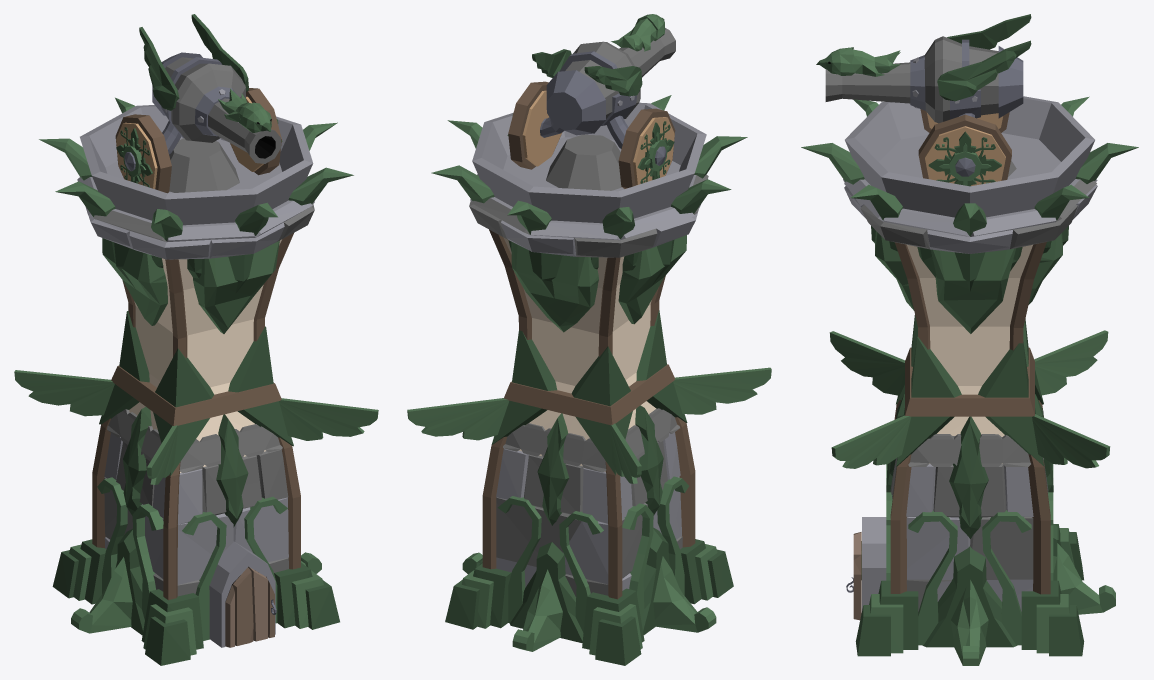
Rendered from Cannon_Tower_LVL_4.gltf.
3 renders of one model, left to right at view 1: azimuth 30°, elevation 25°; view 2: azimuth 150°, elevation 25°; view 3: azimuth 270°, elevation 25°, orthographic. The views are drawn at different scales.
Visible parts, largest first — view 1: Cannon_Tower_LVL_4_Body, Cannon_Tower_LVL_4_Head; view 2: Cannon_Tower_LVL_4_Body, Cannon_Tower_LVL_4_Head; view 3: Cannon_Tower_LVL_4_Body, Cannon_Tower_LVL_4_Head.
Part boxes in pixels (bbox=[...]): Cannon_Tower_LVL_4_Body: bbox=[14, 233, 378, 665]; Cannon_Tower_LVL_4_Head: bbox=[39, 14, 353, 259]; Cannon_Tower_LVL_4_Body: bbox=[407, 229, 771, 665]; Cannon_Tower_LVL_4_Head: bbox=[431, 14, 747, 257]; Cannon_Tower_LVL_4_Body: bbox=[829, 226, 1115, 665]; Cannon_Tower_LVL_4_Head: bbox=[801, 14, 1138, 253].
Bounding box in the file's own units: 4.01 × 7.6 × 4.01.
2 materials, 2 textured.
